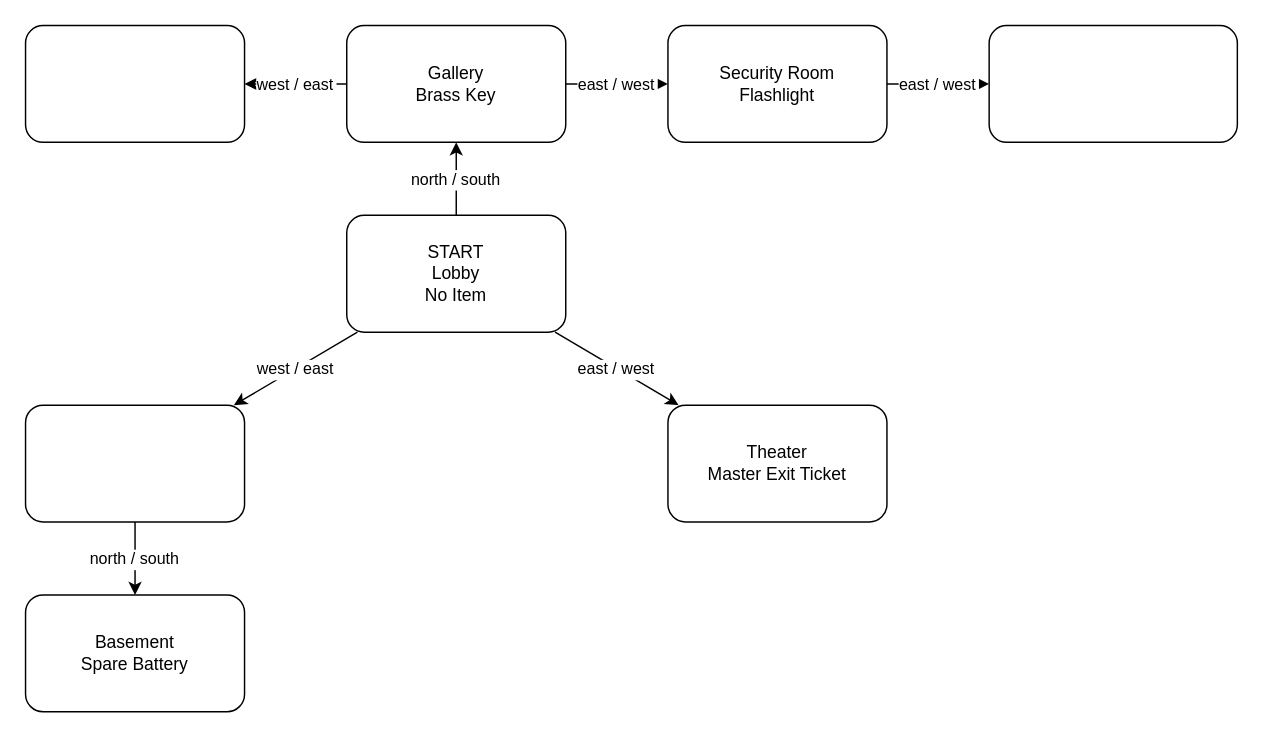
Some shapes in this 1263 by 737 pixel diagram are drawn without their labels. Here are the shapes that lost their labels. From the top down, the box of each, then its label:
(24, 24, 245, 142): Archives Old Museum Map
(988, 24, 1237, 142): VILLAIN Curator's Office The Curator
(24, 404, 245, 522): Workshop Crowbar
